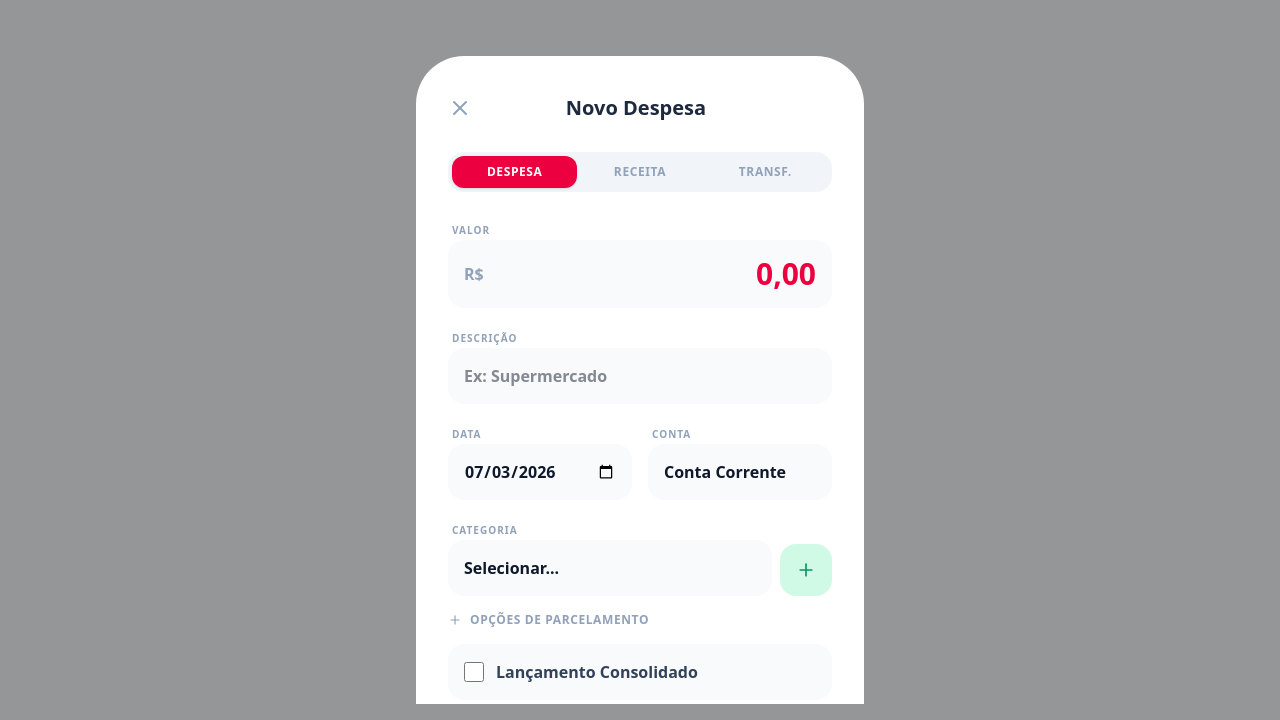
TransactionModal - Inline Category Creation › inline form shows icon selection grid
Click the button without text below "Conta". click: [806, 570]
box: x1=780 y1=544 x2=832 y2=596
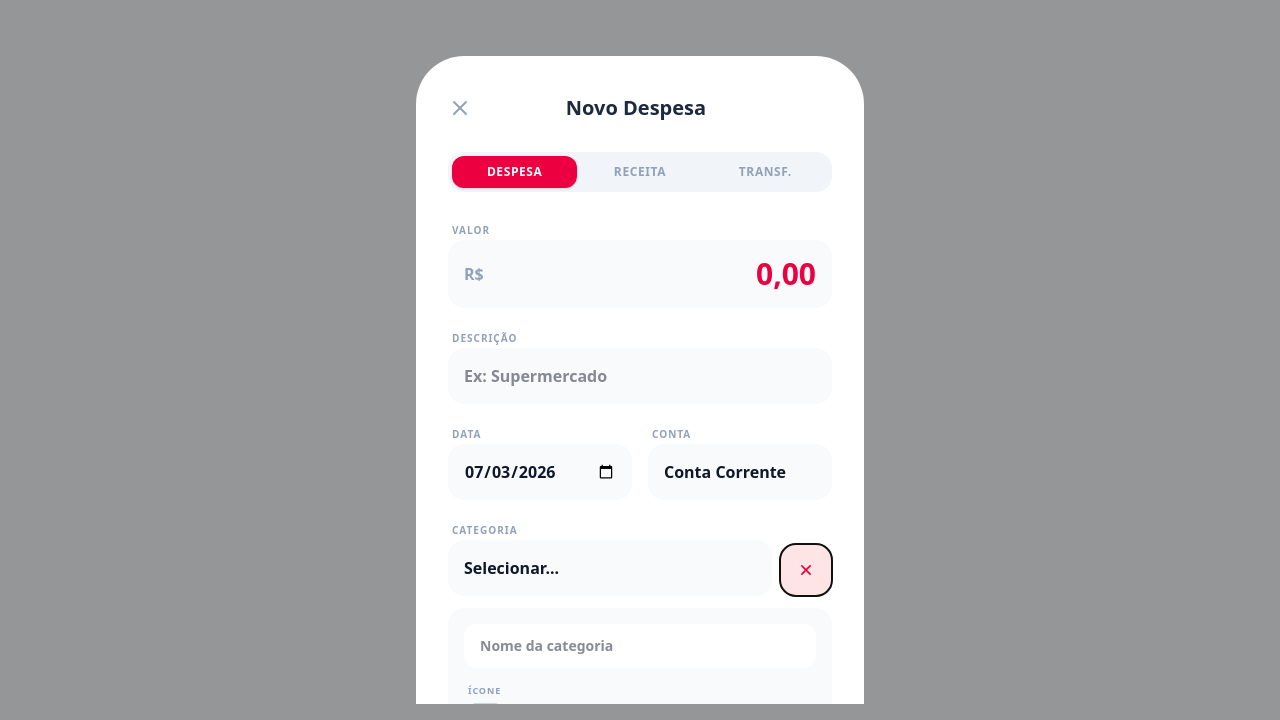
Now the text "Ícone" is shown, box x1=468 y1=684 x2=501 y2=697
